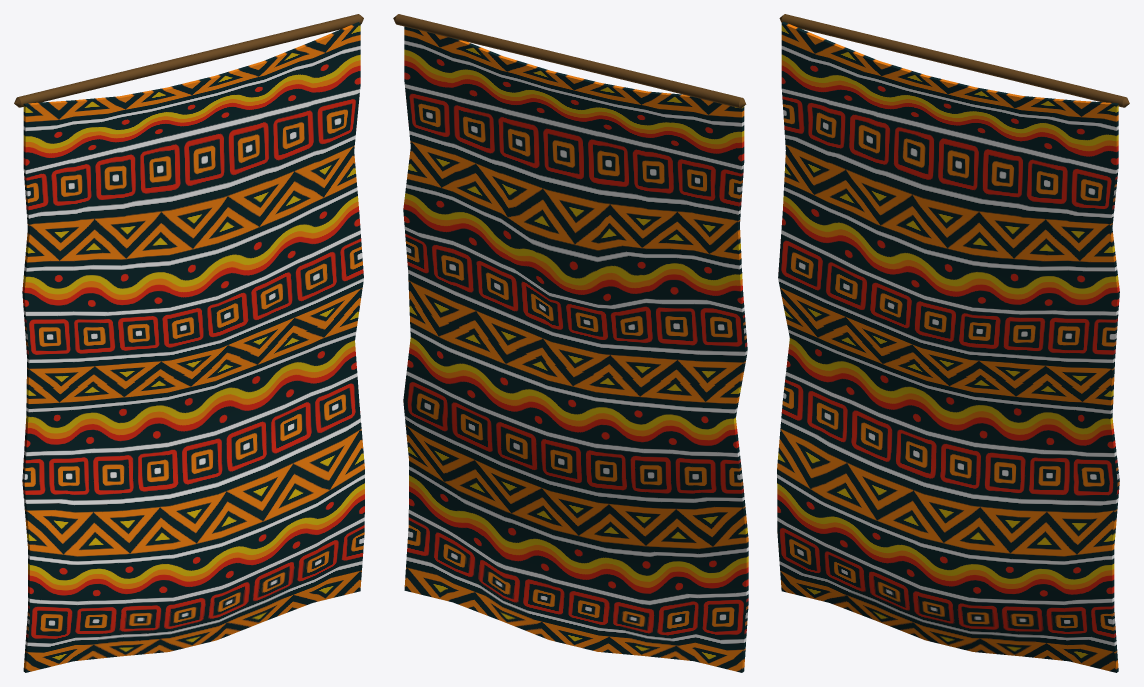
Rendered from CurtainB.fbx.
3 renders of one model, left to right at view 1: azimuth 30°, elevation 25°; view 2: azimuth 150°, elevation 25°; view 3: azimuth 330°, elevation 25°, orthographic.
Parts seen in each view (by area): view 1: Curtain.002; view 2: Curtain.002; view 3: Curtain.002.
Part boxes in pixels (x1=…): Curtain.002: x1=14, y1=14, x2=364, y2=672; Curtain.002: x1=393, y1=14, x2=748, y2=672; Curtain.002: x1=777, y1=14, x2=1129, y2=672.
Size of the model in its own units: 209 by 335 by 12.43.
Materials: 2 (2 with a texture image).
